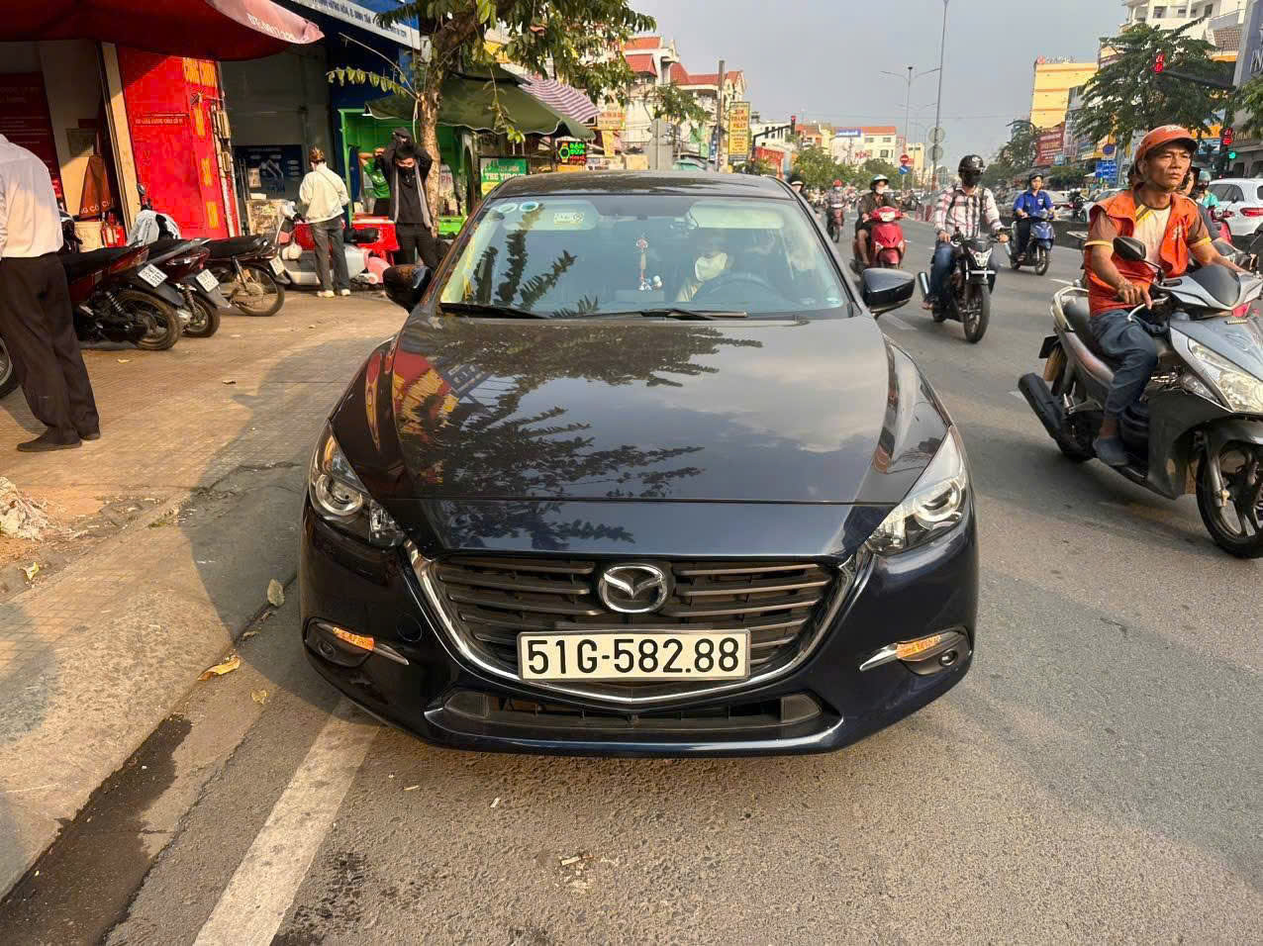Bien-so: (517, 632, 749, 682)
